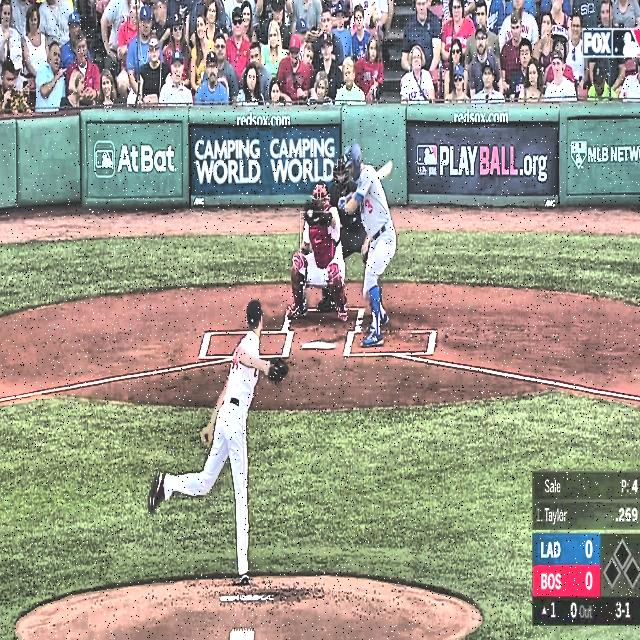baseball: (307, 208, 313, 218)
